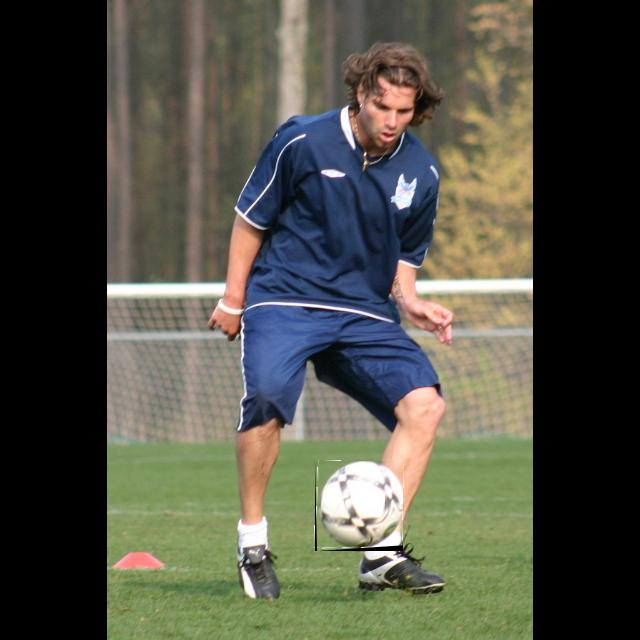Football: (315, 461, 403, 551)
